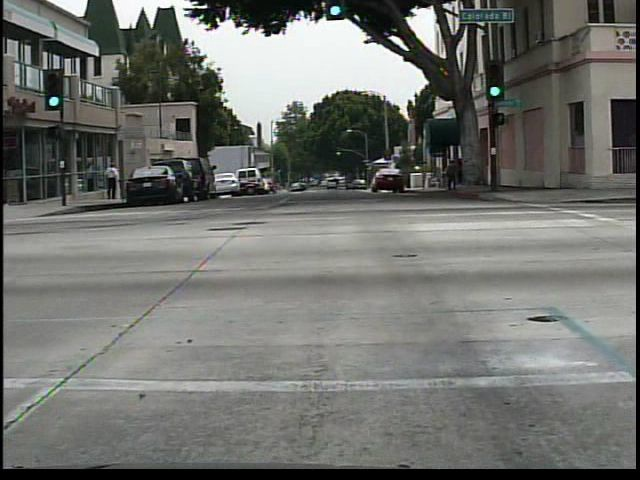person: (105, 154, 123, 201), (441, 159, 459, 192), (455, 151, 456, 194)
